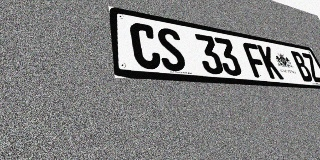3: (194, 33, 225, 75), (214, 37, 243, 76)
B: (289, 50, 315, 82)
C: (129, 21, 163, 70)
F: (242, 42, 270, 78)
K: (257, 45, 284, 80)
S: (155, 26, 188, 72)
Z: (300, 52, 320, 83)
